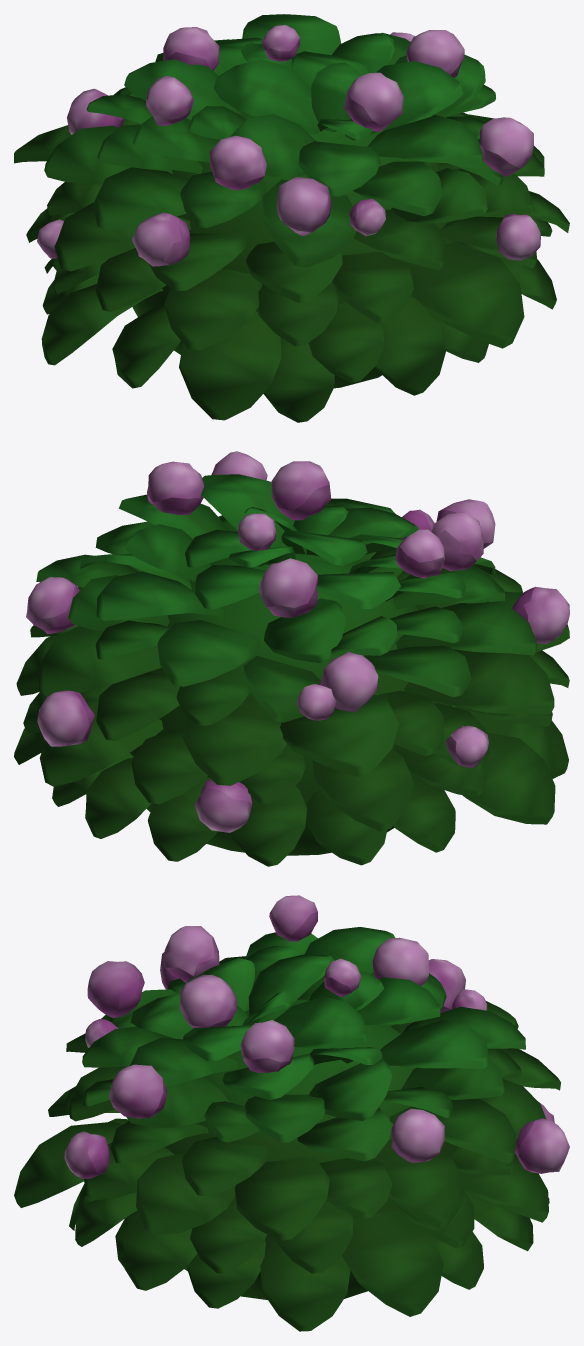
Rendered from S_BushPurple.fbx.
The picture shows the model from 3 angles, top to bottom: view 1: azimuth 30°, elevation 25°; view 2: azimuth 150°, elevation 25°; view 3: azimuth 270°, elevation 25°; orthographic projection. The views are drawn at different scales.
Visible parts, largest first — view 1: S_BushPurple; view 2: S_BushPurple; view 3: S_BushPurple.
Part boxes in pixels (left/top/right/bottom): S_BushPurple: left=14, top=14, right=569, bottom=422; S_BushPurple: left=14, top=451, right=569, bottom=866; S_BushPurple: left=14, top=895, right=569, bottom=1331.
Size of the model in its own units: 260 by 151 by 256.
